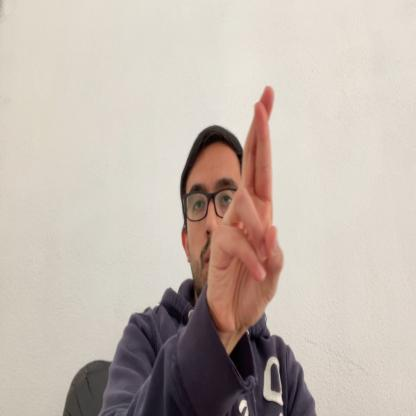R: (208, 83, 286, 342)
